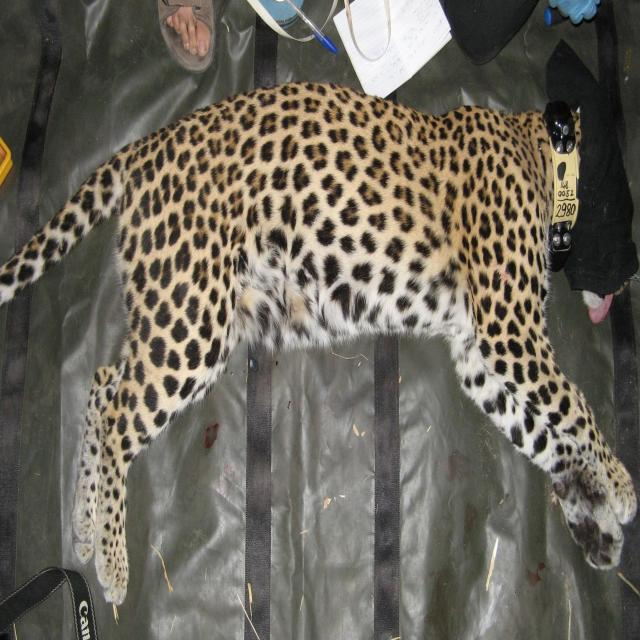Leopard: (0, 64, 626, 610)
